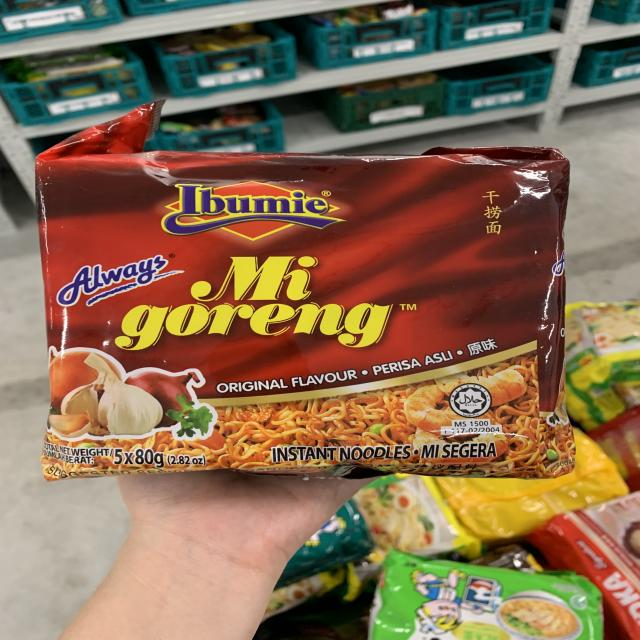object_name: (37, 158, 562, 474)
